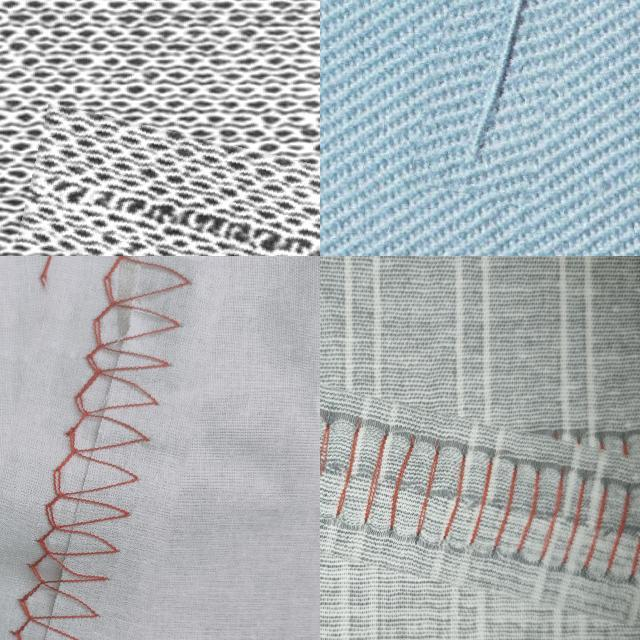Thread_out: (320, 370, 640, 605), (0, 256, 195, 640)
stains: (21, 123, 320, 256), (435, 0, 608, 202)
